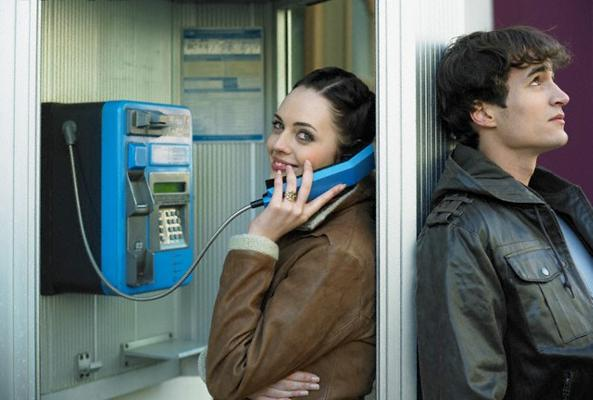person: (207, 67, 377, 400)
